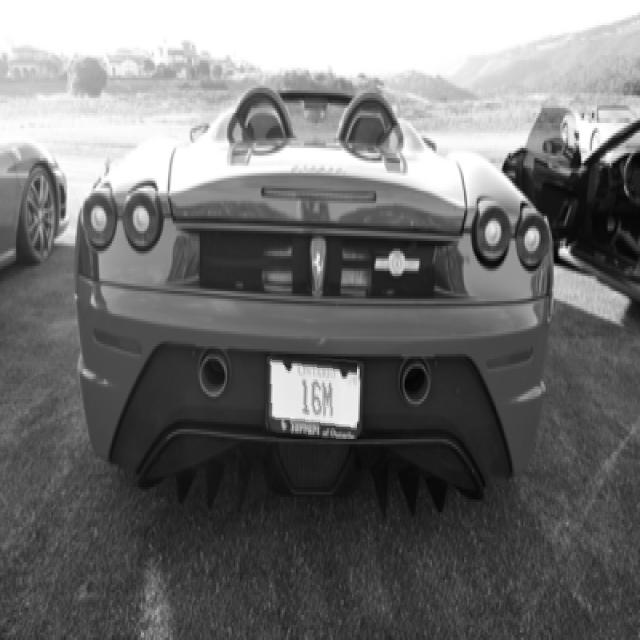licence: (264, 354, 357, 439)
